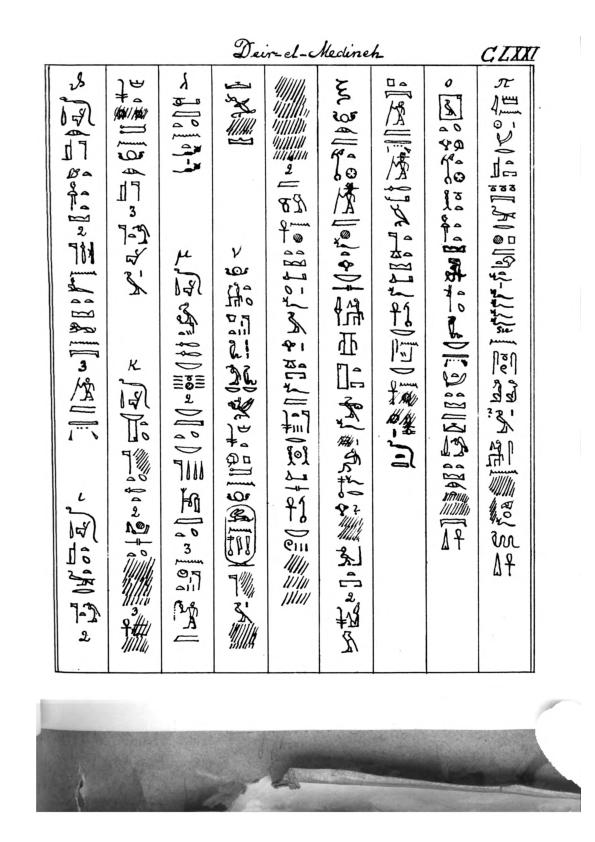circle: (222, 502, 259, 568)
